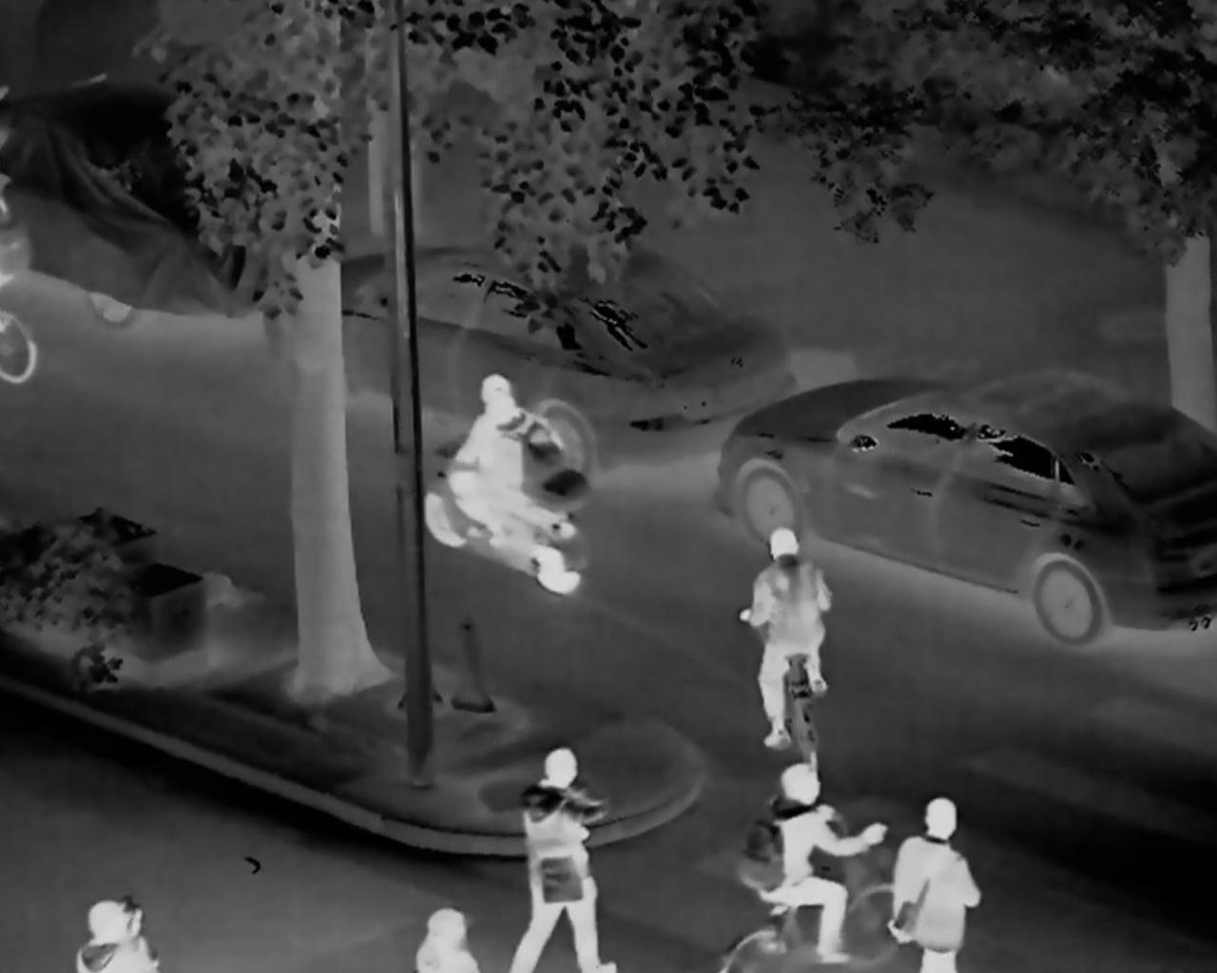person: (743, 759, 895, 973), (503, 742, 625, 973), (448, 366, 559, 566), (742, 517, 831, 739), (879, 795, 987, 973), (68, 887, 183, 973), (409, 905, 486, 973)
